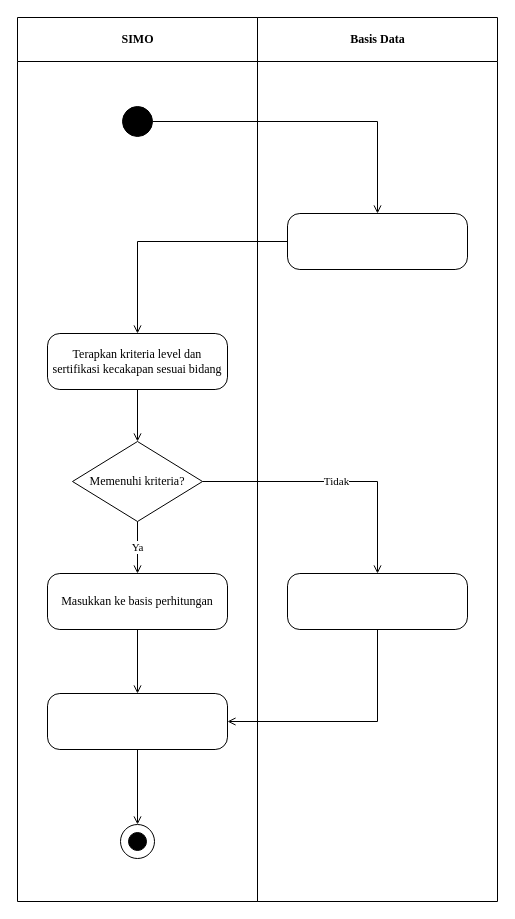
The diagram is 515 pixels wide and 919 high, and some of its shapes have lost their labels. Each missing label, with the centre of its shape:
Ambil data pegawai terintegrasi: (x=377, y=241)
Hasilkan daftar terfilter: (x=137, y=721)
Kecualikan pegawai: (x=377, y=601)
